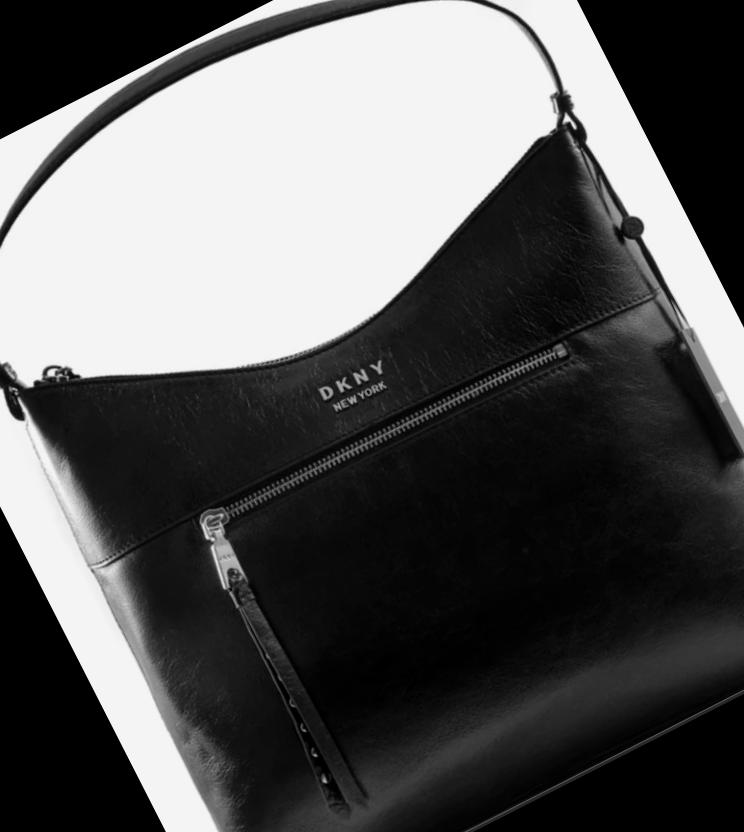DKNY: (318, 356, 388, 402)
